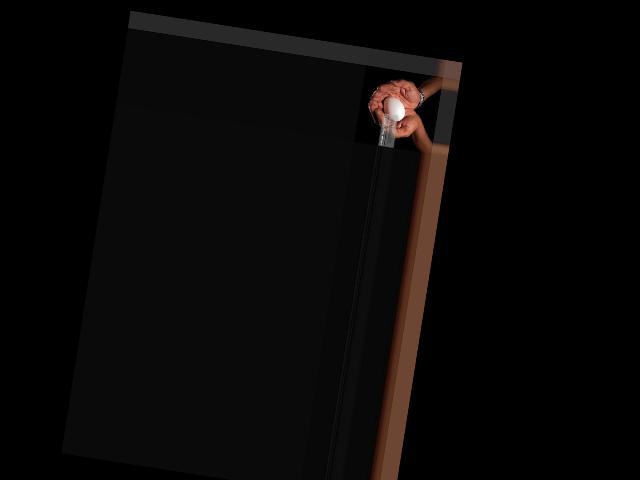egg: (380, 95, 406, 121)
